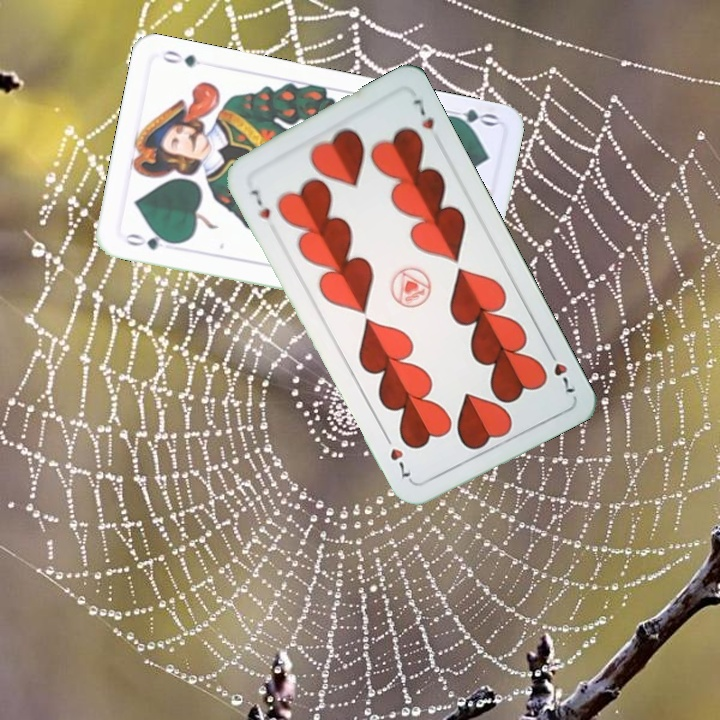GO: (440, 105, 500, 132), (122, 229, 179, 253)
H7: (543, 343, 577, 396), (246, 185, 273, 222)
